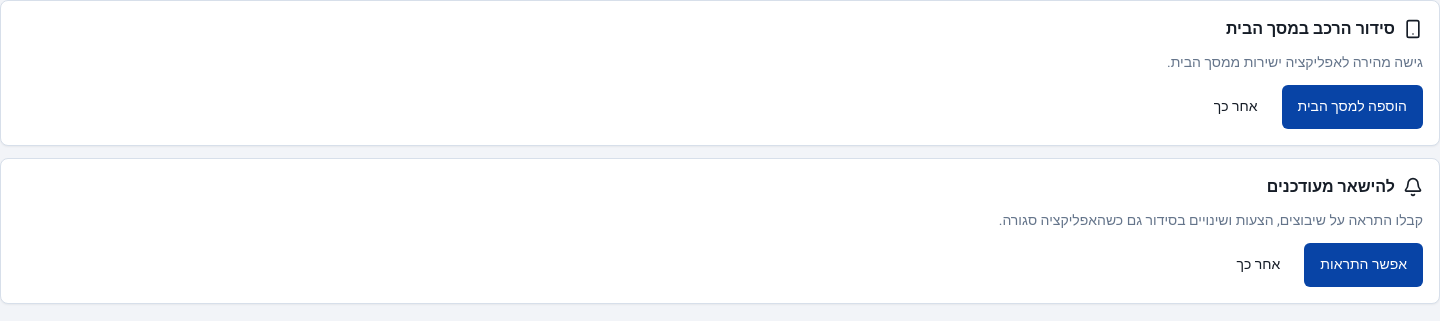
it: Home device setup suggestions › retains an early install event and opens the native prompt only after a click
Click the button "הוספה למסך הבית": (1352, 107) [1282,85,1423,129]
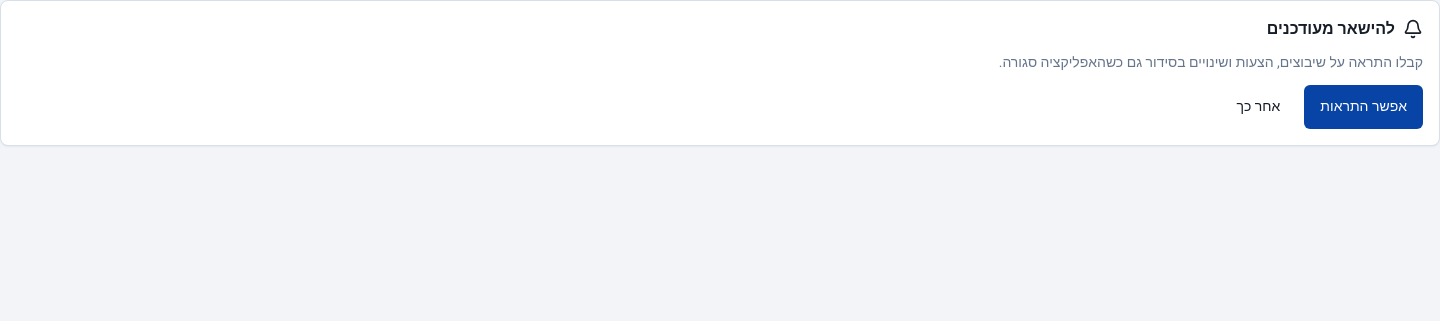
Expected: the element with test id "install-suggestion" is gone
